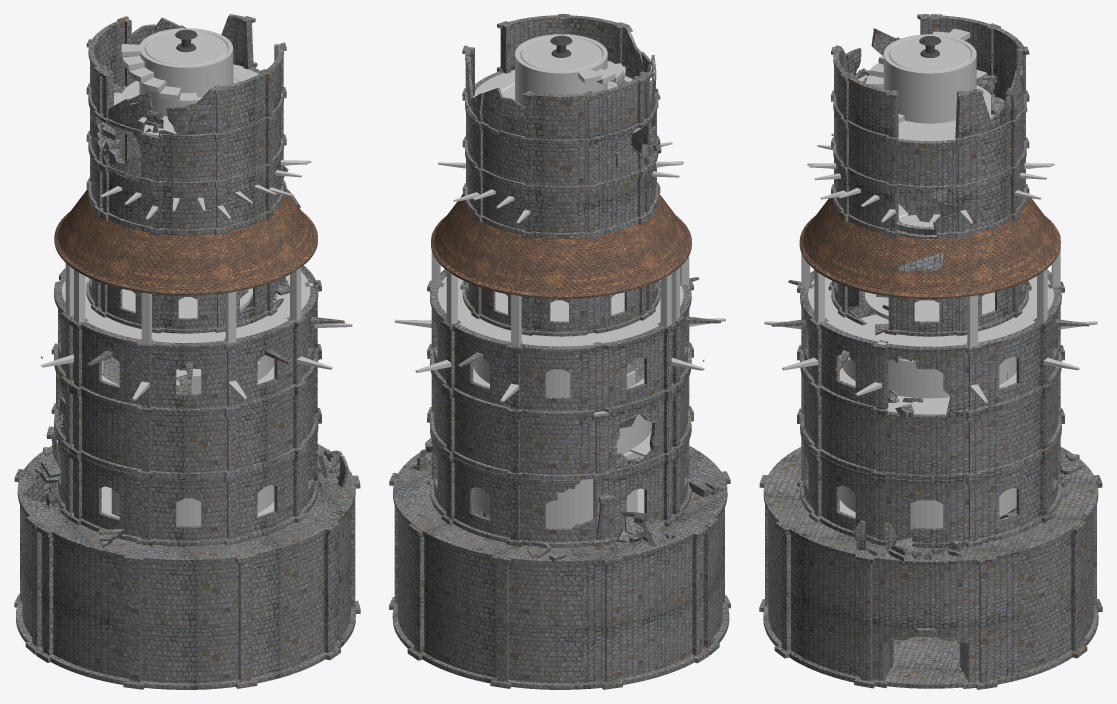
Rendered from Tower.fbx.
The picture shows the model from 3 angles, left to right: view 1: azimuth 30°, elevation 25°; view 2: azimuth 150°, elevation 25°; view 3: azimuth 270°, elevation 25°; orthographic projection.
Visible parts, largest first — view 1: Base, Paredes, Andar3, Object018, Andar005, Andar006, Andar007, Object035, Object026, Object008, Object020, Cylinder004 (+9 smaller); view 2: Base, Paredes, Object018, Andar3, Andar007, Andar005, Andar006, Object008, Object035, Cylinder003, Object026, Object020 (+9 smaller); view 3: Base, Paredes, Andar3, Object018, Andar006, Andar007, Andar005, Object035, Cylinder004, Object008, Object026, Cylinder006 (+13 smaller).
Part boxes in pixels (left/top/right/bottom): Base: left=14, top=443, right=360, bottom=689; Paredes: left=41, top=268, right=321, bottom=546; Andar3: left=51, top=343, right=321, bottom=478; Object018: left=54, top=189, right=317, bottom=295; Andar005: left=86, top=129, right=286, bottom=233; Andar006: left=86, top=67, right=286, bottom=186; Andar007: left=86, top=16, right=286, bottom=138; Object035: left=139, top=28, right=233, bottom=116; Object026: left=104, top=31, right=258, bottom=136; Object008: left=62, top=272, right=313, bottom=342; Object020: left=65, top=262, right=301, bottom=343; Cylinder004: left=16, top=599, right=352, bottom=689; Base: left=389, top=446, right=730, bottom=689; Paredes: left=427, top=233, right=704, bottom=546; Object018: left=431, top=193, right=691, bottom=299; Andar3: left=427, top=353, right=693, bottom=480; Andar007: left=497, top=14, right=653, bottom=143; Andar005: left=462, top=130, right=660, bottom=237; Andar006: left=462, top=71, right=660, bottom=190; Object008: left=438, top=276, right=683, bottom=346; Object035: left=515, top=34, right=607, bottom=106; Cylinder003: left=473, top=451, right=644, bottom=528; Object026: left=473, top=37, right=642, bottom=132; Object020: left=431, top=251, right=689, bottom=346; Base: left=759, top=447, right=1102, bottom=689; Paredes: left=797, top=205, right=1064, bottom=547; Andar3: left=797, top=356, right=1064, bottom=480; Object018: left=799, top=197, right=1060, bottom=299; Andar006: left=831, top=70, right=1029, bottom=190; Andar007: left=831, top=14, right=1029, bottom=142; Andar005: left=831, top=145, right=1029, bottom=236; Object035: left=883, top=34, right=976, bottom=123; Cylinder004: left=764, top=605, right=1097, bottom=688; Object008: left=808, top=276, right=1053, bottom=346; Object026: left=858, top=37, right=994, bottom=140; Cylinder006: left=840, top=355, right=1016, bottom=398.
Bounding box in the file's own units: 861 × 1622 × 870.
